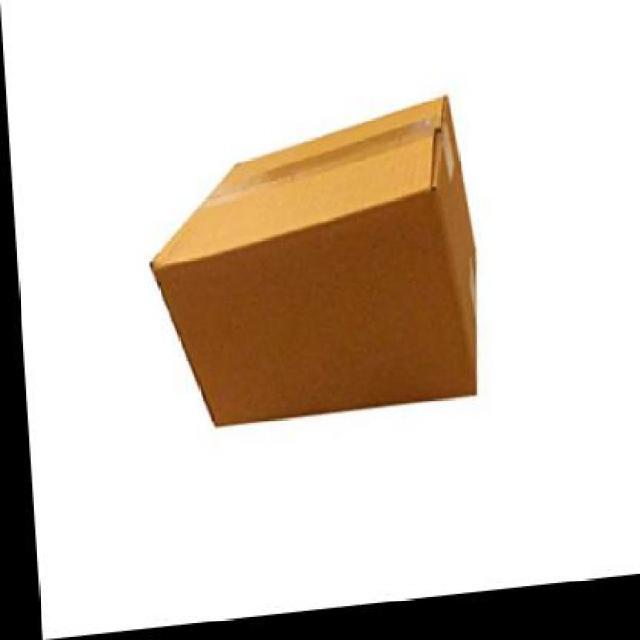box: (138, 100, 478, 433)
